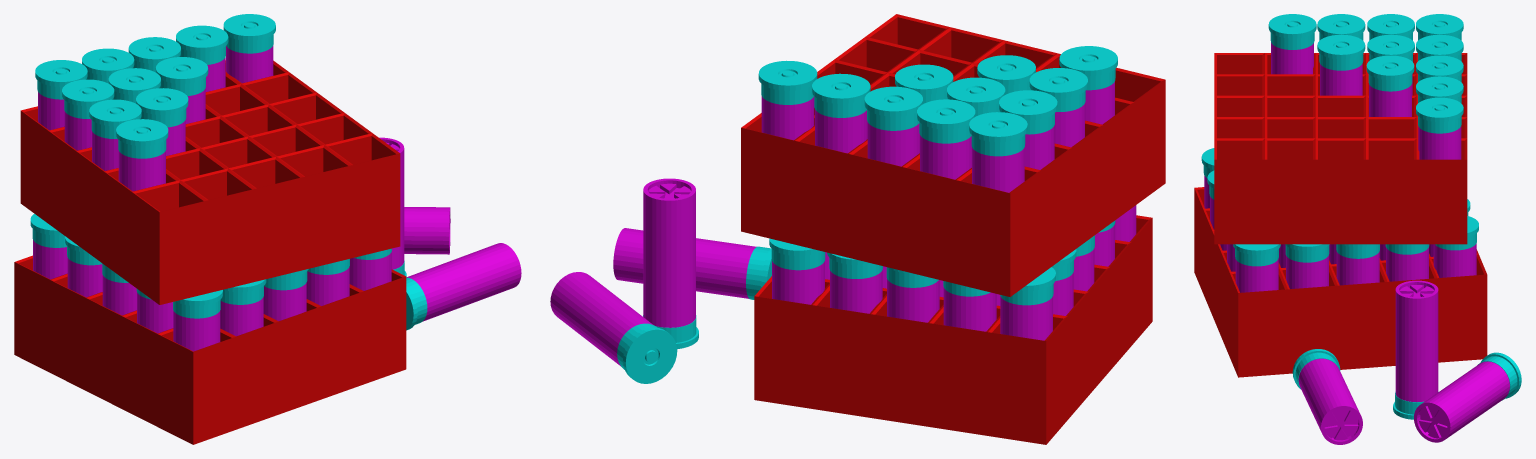
The model's file is ammo.fbx.
The picture shows the model from 3 angles, left to right: view 1: azimuth 30°, elevation 25°; view 2: azimuth 150°, elevation 25°; view 3: azimuth 270°, elevation 25°; orthographic projection. The views are drawn at different scales.
Parts seen in each view (by area): view 1: Cube.010; view 2: Cube.010; view 3: Cube.010.
Part boxes in pixels (x1,y1,x2,y2): Cube.010: (14, 14, 521, 444); Cube.010: (550, 14, 1165, 444); Cube.010: (1194, 14, 1521, 444).
Bounding box in the file's own units: 14.06 × 8.38 × 9.96.
